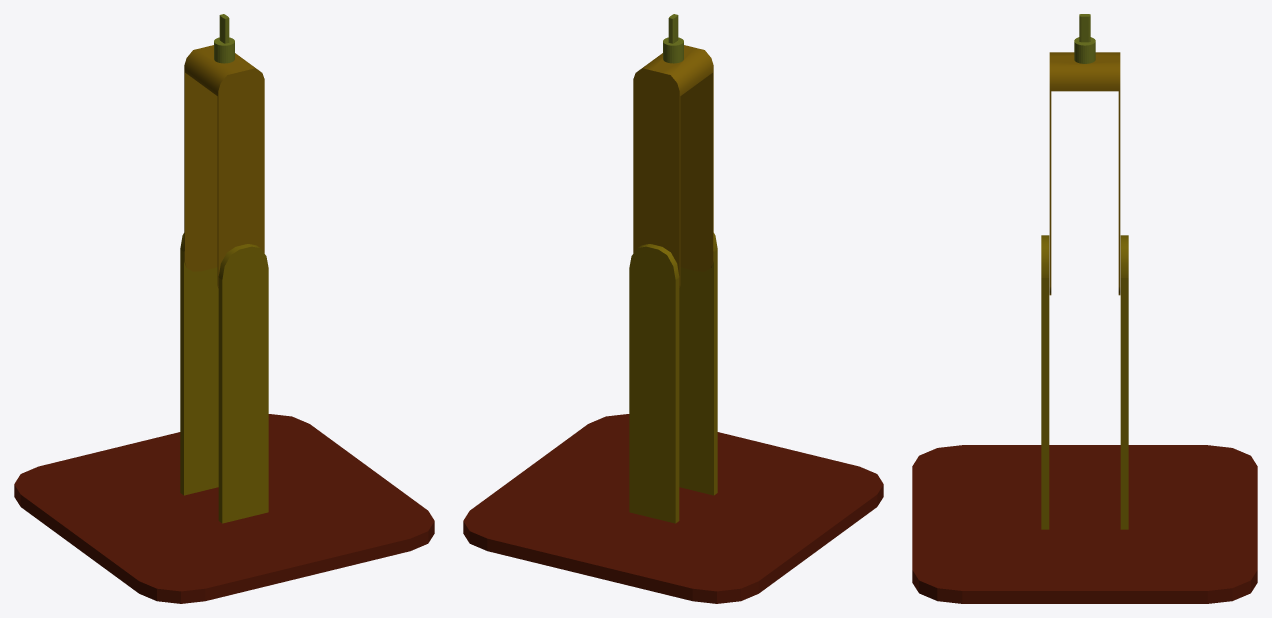
Rendered from robot.fbx.
3 renders of one model, left to right at view 1: azimuth 30°, elevation 25°; view 2: azimuth 150°, elevation 25°; view 3: azimuth 270°, elevation 25°, orthographic. The views are drawn at different scales.
Parts seen in each view (by area): view 1: Cube.001, Plane, Plane.001, Circle; view 2: Cube.001, Plane, Plane.001, Circle; view 3: Cube.001, Plane, Plane.001, Circle.
Part boxes in pixels (bbox=[...]): Cube.001: bbox=[14, 414, 434, 603]; Plane: bbox=[180, 233, 268, 523]; Plane.001: bbox=[184, 45, 264, 288]; Circle: bbox=[214, 14, 234, 63]; Cube.001: bbox=[463, 414, 883, 603]; Plane: bbox=[629, 233, 717, 523]; Plane.001: bbox=[633, 45, 713, 288]; Circle: bbox=[663, 14, 683, 63]; Cube.001: bbox=[912, 445, 1257, 603]; Plane: bbox=[1041, 235, 1128, 529]; Plane.001: bbox=[1049, 52, 1120, 295]; Circle: bbox=[1074, 14, 1095, 63].
Bounding box in the file's own units: 108 × 178 × 108.
